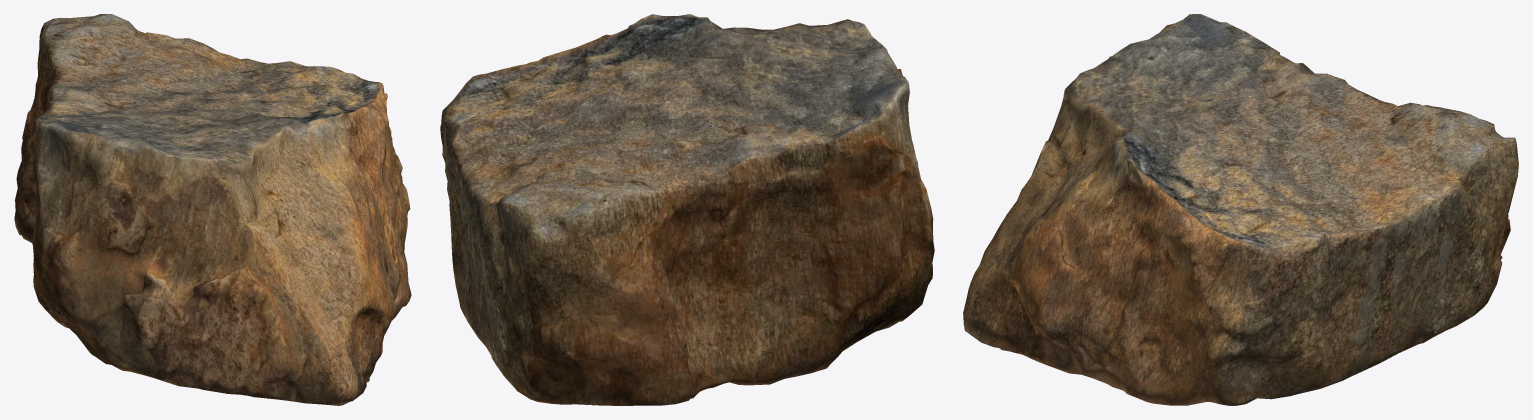
Rendered from namaqualand_boulder_03.glb.
3 views of the same model, side by side, from view 1: azimuth 30°, elevation 25°; view 2: azimuth 150°, elevation 25°; view 3: azimuth 270°, elevation 25° (orthographic). The views are drawn at different scales.
Visible parts, largest first — view 1: boulder_03_LOD0; view 2: boulder_03_LOD0; view 3: boulder_03_LOD0.
Boxes of the visible parts, <box> form: boulder_03_LOD0: <box>14,14,411,405</box>; boulder_03_LOD0: <box>440,14,934,405</box>; boulder_03_LOD0: <box>963,14,1518,405</box>.
Size of the model in its own units: 2.4 by 1.47 by 3.06.
Materials: 1 (1 with a texture image).
